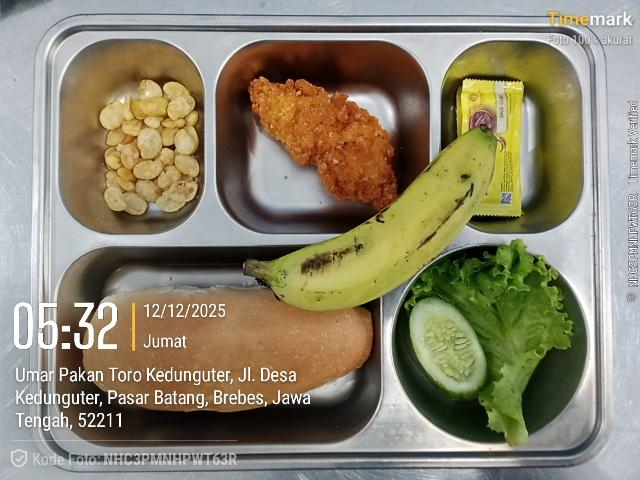ayam: (249, 77, 397, 209)
buah: (244, 128, 496, 311)
kacang: (99, 79, 199, 215)
roti: (83, 288, 373, 411), (50, 315, 556, 316)
sayur: (404, 240, 573, 445)
